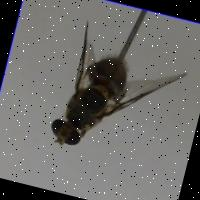Oriental-fruit-fly: (41, 10, 189, 178)
